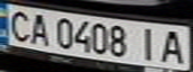0: (51, 16, 75, 51), (90, 20, 109, 56)
4: (72, 18, 93, 53)
8: (106, 21, 133, 59)
A: (157, 27, 190, 65), (24, 11, 54, 46)
C: (3, 7, 33, 43)
I: (133, 25, 163, 62)
